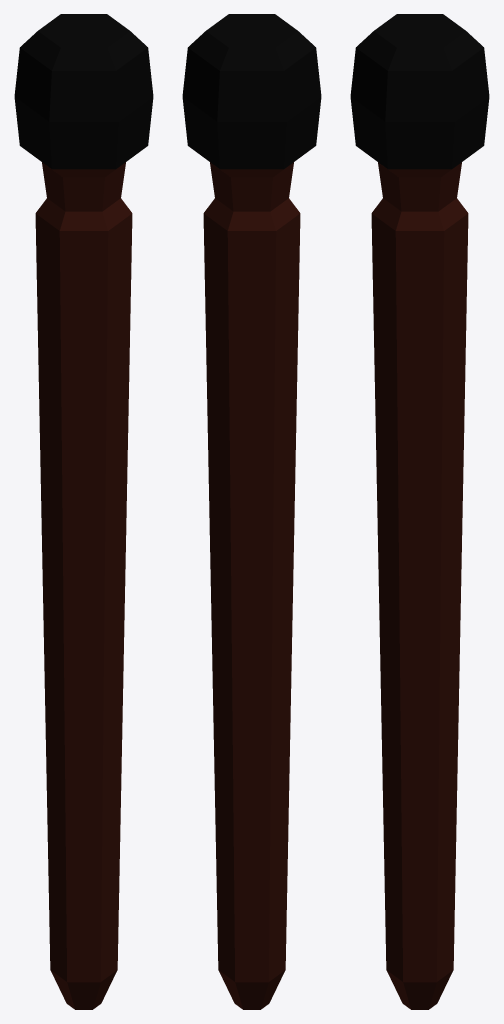
Rendered from torch.obj.
3 renders of one model, left to right at view 1: azimuth 30°, elevation 25°; view 2: azimuth 150°, elevation 25°; view 3: azimuth 330°, elevation 25°, orthographic.
Visible parts, largest first — view 1: Torch_Cylinder.011; view 2: Torch_Cylinder.011; view 3: Torch_Cylinder.011.
Part boxes in pixels (x1,y1,x2,y2): Torch_Cylinder.011: (14, 14, 153, 1009); Torch_Cylinder.011: (182, 14, 321, 1009); Torch_Cylinder.011: (350, 14, 489, 1009).
Bounding box in the file's own units: 0.0915 × 0.8159 × 0.1057.
